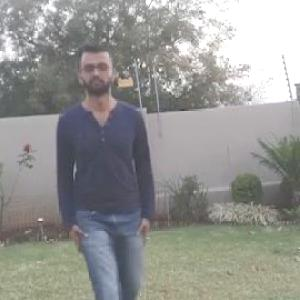follow: (60, 52, 157, 299)
